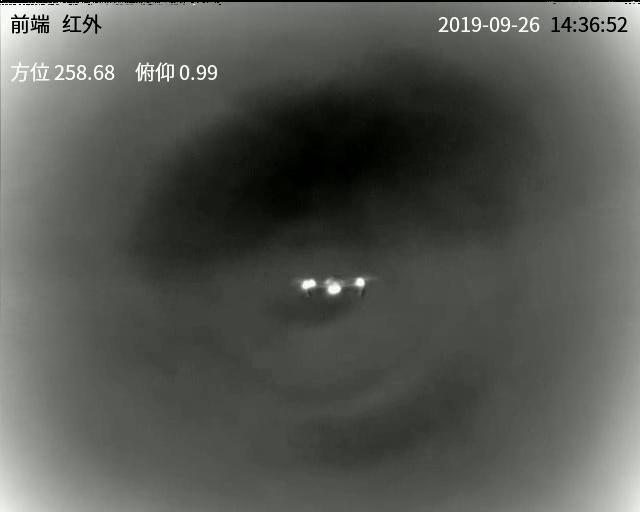DRONE: (301, 275, 368, 300)
